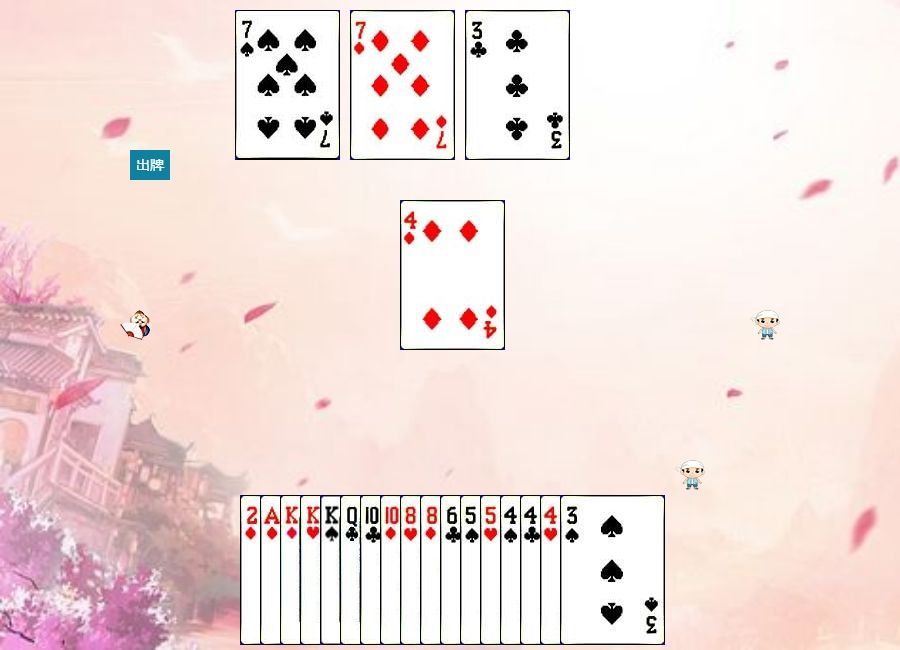10~1: (380, 495, 485, 645)
10~2: (360, 495, 465, 645)
12~2: (340, 495, 445, 645)
13~1: (280, 495, 385, 645)
13~3: (300, 495, 405, 645)
13~4: (320, 495, 425, 645)
14~1: (260, 495, 365, 645)
15~1: (240, 495, 345, 645)
3~2: (465, 10, 570, 160)
3~4: (560, 495, 665, 645)
4~1: (400, 200, 505, 350)
4~2: (520, 495, 625, 645)
4~3: (540, 495, 645, 645)
4~4: (500, 495, 605, 645)
5~3: (480, 495, 585, 645)
5~4: (460, 495, 565, 645)
6~2: (440, 495, 545, 645)
7~1: (350, 10, 455, 160)
7~4: (235, 10, 340, 160)
8~1: (420, 495, 525, 645)
8~3: (400, 495, 505, 645)
